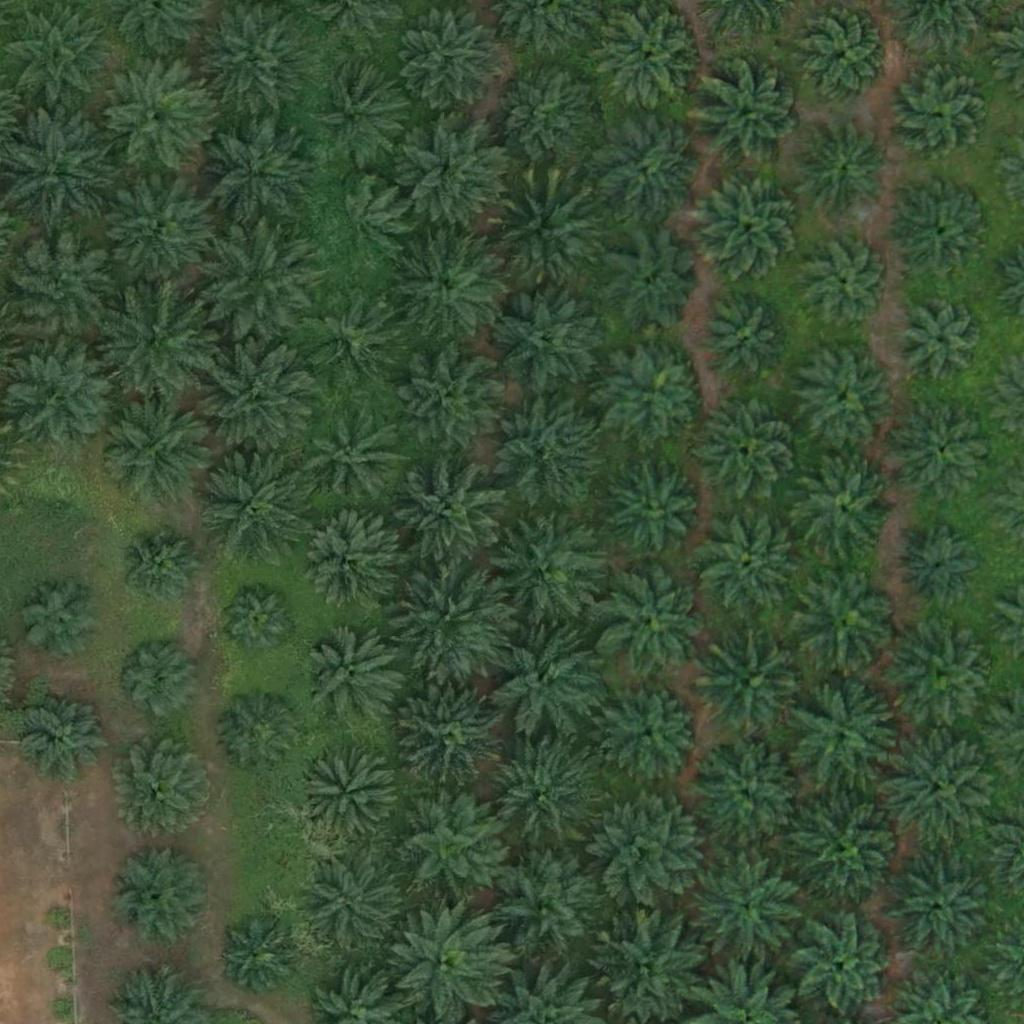Kelapa_Sawit: (197, 442, 310, 556), (100, 173, 213, 287), (97, 283, 210, 397), (395, 2, 508, 115), (691, 59, 804, 172), (693, 169, 806, 282), (492, 282, 605, 395), (488, 392, 601, 505), (397, 116, 510, 229), (388, 229, 501, 342), (394, 346, 507, 459), (102, 393, 215, 506), (4, 233, 117, 346), (396, 564, 509, 677), (397, 681, 510, 794), (493, 512, 606, 625), (490, 626, 603, 739), (484, 737, 597, 850), (492, 852, 605, 965), (592, 792, 705, 905), (595, 906, 708, 1019), (785, 679, 898, 792), (883, 731, 996, 844), (886, 851, 999, 964), (394, 457, 506, 571), (201, 223, 313, 337), (203, 340, 315, 454), (200, 2, 312, 115), (490, 62, 602, 175), (489, 177, 601, 290), (199, 117, 311, 230), (99, 60, 211, 173), (9, 340, 121, 453), (392, 790, 504, 903), (597, 566, 709, 679), (692, 505, 804, 618), (699, 632, 811, 745), (692, 738, 804, 851), (692, 857, 804, 970), (792, 797, 904, 910), (895, 399, 995, 500), (793, 118, 893, 219), (794, 346, 894, 447), (794, 463, 894, 564), (698, 400, 798, 501), (597, 5, 697, 106), (594, 117, 694, 218), (603, 233, 703, 334), (604, 343, 704, 444), (601, 457, 701, 558), (309, 63, 409, 164), (297, 514, 397, 615), (303, 626, 403, 727), (298, 744, 398, 845), (603, 683, 703, 784), (793, 917, 893, 1018), (889, 64, 989, 164), (893, 180, 993, 280), (793, 5, 893, 105), (301, 290, 401, 390), (305, 409, 405, 509), (115, 739, 215, 839), (110, 846, 210, 946), (308, 858, 408, 958), (795, 567, 895, 667), (893, 627, 993, 727), (702, 295, 790, 383), (318, 180, 406, 268), (24, 691, 112, 779), (900, 294, 987, 382), (802, 238, 889, 326), (18, 576, 105, 664), (117, 526, 204, 614), (114, 635, 201, 723), (216, 690, 303, 778), (221, 918, 296, 994), (903, 529, 978, 605), (219, 582, 294, 657), (33, 477, 83, 527)
